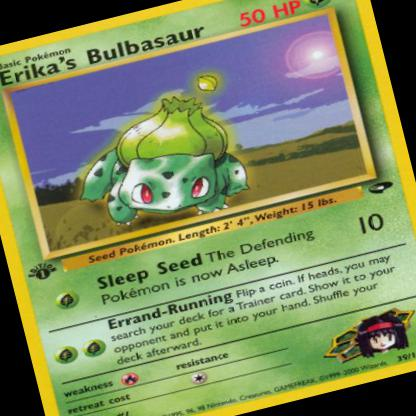Bulbasaur: (59, 80, 259, 241)
